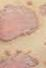plaque psoriasis: (0, 2, 38, 41), (0, 49, 40, 68), (38, 1, 46, 15)
